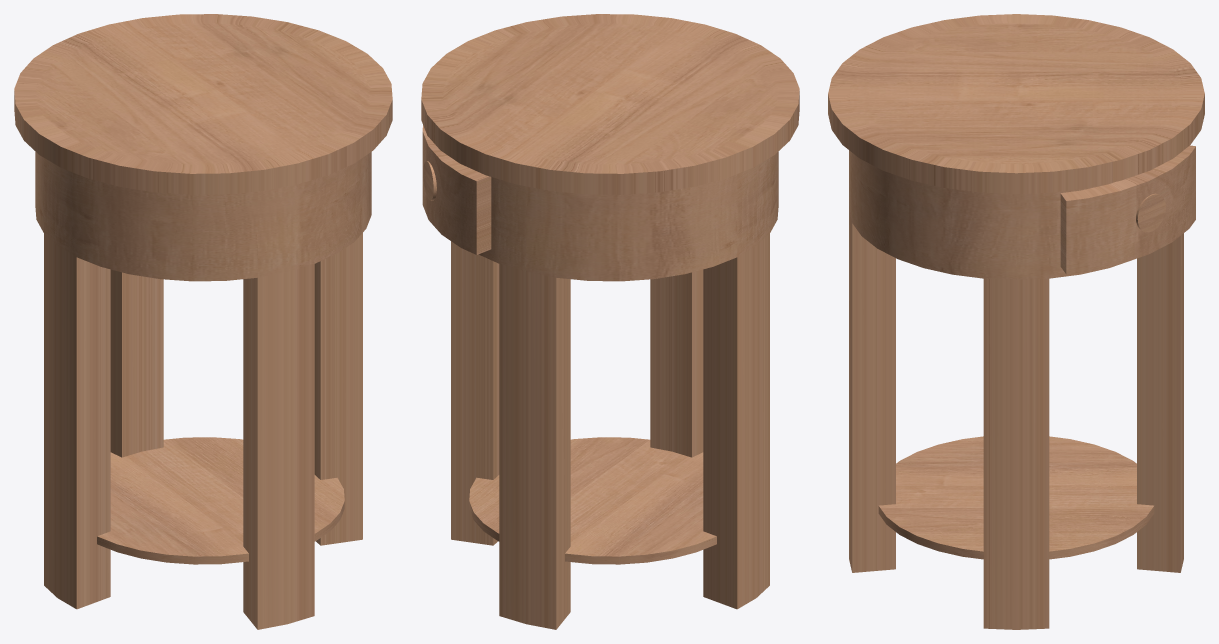
Rendered from livingroomtablev2.fbx.
The picture shows the model from 3 angles, left to right: view 1: azimuth 30°, elevation 25°; view 2: azimuth 150°, elevation 25°; view 3: azimuth 270°, elevation 25°; orthographic projection.
Parts seen in each view (by area): view 1: Cylinder; view 2: Cylinder; view 3: Cylinder.
Part boxes in pixels (bbox=[...]): Cylinder: bbox=[14, 14, 392, 629]; Cylinder: bbox=[421, 14, 799, 629]; Cylinder: bbox=[828, 14, 1204, 629].
Size of the model in its own units: 225 by 307 by 225.
Materials: 1 (1 with a texture image).
